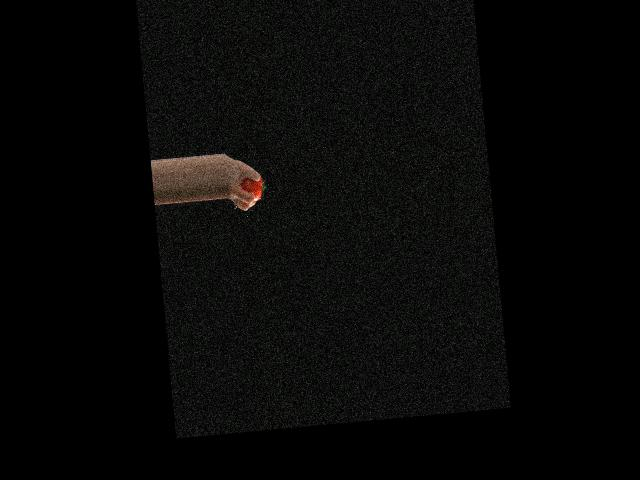tomato: (240, 176, 264, 201)
